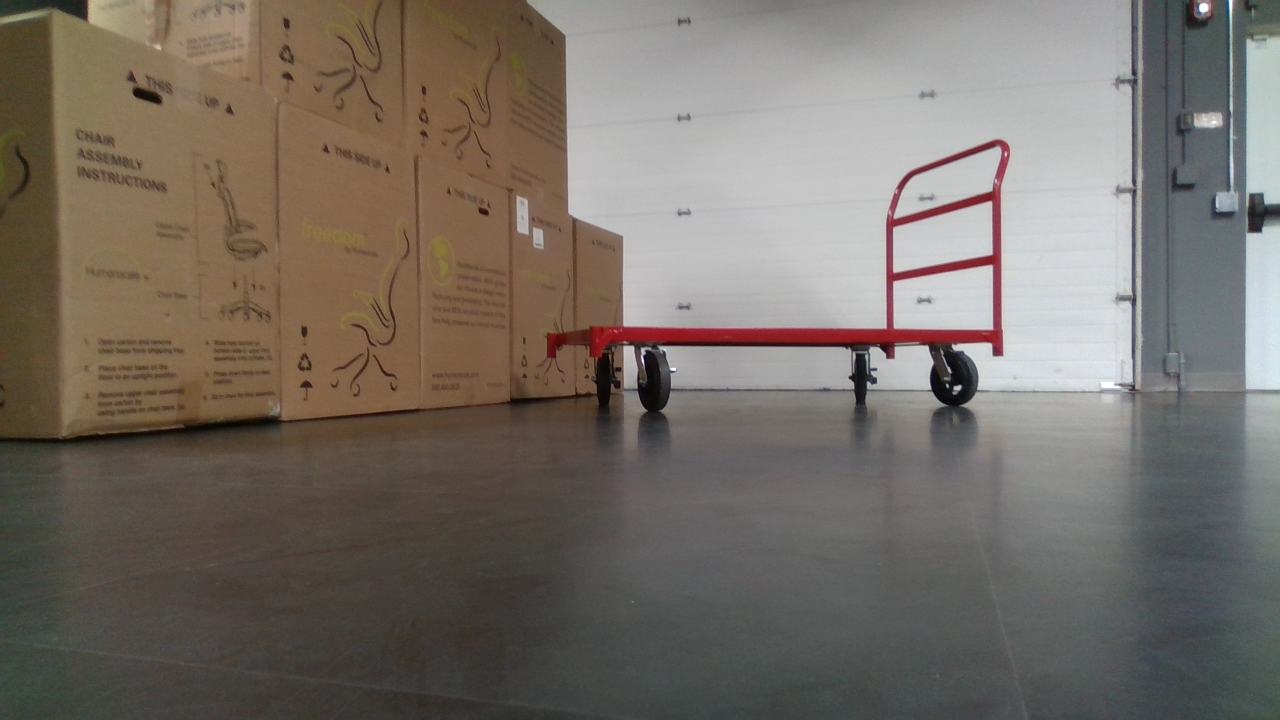Dolly: (551, 133, 1018, 416)
Wheel: (923, 341, 985, 412), (633, 353, 678, 417), (845, 341, 880, 412), (592, 348, 620, 414)
